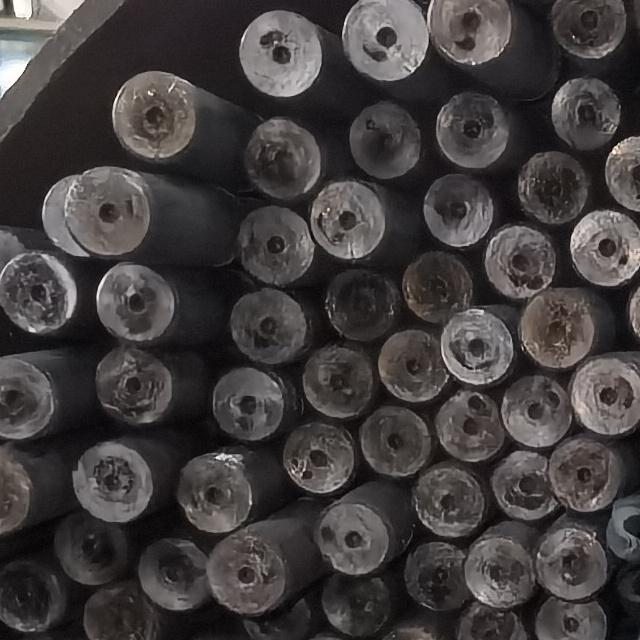tool: (208, 504, 326, 630), (313, 475, 415, 574), (174, 442, 283, 532), (238, 9, 342, 98), (64, 165, 156, 258), (112, 71, 200, 167), (520, 288, 614, 370), (2, 242, 79, 338), (96, 261, 180, 346), (343, 0, 429, 79), (90, 348, 174, 427), (429, 0, 518, 74), (442, 308, 522, 390), (548, 431, 628, 513), (73, 441, 152, 522), (312, 179, 388, 263), (465, 521, 538, 608), (533, 513, 605, 600), (0, 544, 68, 635), (237, 202, 313, 282), (246, 117, 320, 198), (571, 348, 640, 434), (302, 338, 376, 418), (232, 291, 312, 364), (280, 421, 355, 498), (437, 93, 511, 170), (411, 461, 486, 536), (346, 101, 419, 178), (324, 268, 402, 340), (480, 221, 553, 297), (566, 208, 638, 284), (548, 0, 636, 62), (141, 538, 214, 612), (52, 514, 127, 586), (518, 148, 589, 224), (210, 368, 284, 440), (359, 403, 432, 475), (502, 372, 571, 448), (550, 78, 620, 152), (421, 172, 491, 246), (379, 328, 447, 404), (402, 250, 473, 322), (433, 388, 503, 460), (2, 441, 53, 536), (487, 450, 555, 520), (0, 351, 54, 438), (86, 578, 164, 638), (42, 174, 99, 256), (321, 570, 392, 635), (404, 540, 466, 611), (537, 597, 607, 640), (604, 133, 640, 210), (459, 605, 526, 640), (385, 611, 451, 640), (617, 276, 640, 348)
tool_b: (606, 496, 640, 562), (616, 558, 640, 621)
